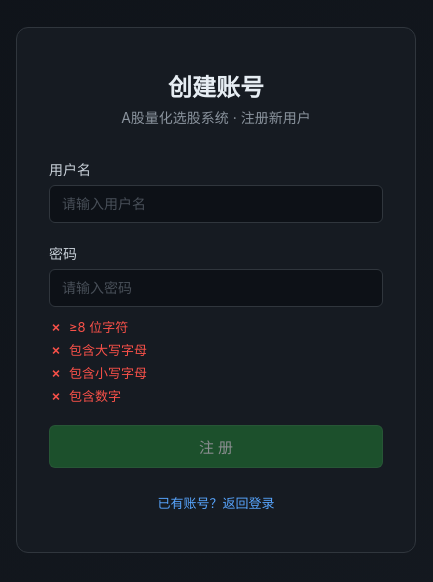
Test: RegisterView › 用户名已占用时显示 ✗ 和错误信息
Type "taken_user" into the field with id "reg-username" at {"x": 216, "y": 204}, box [49,185,383,223]
Wait 400 ms
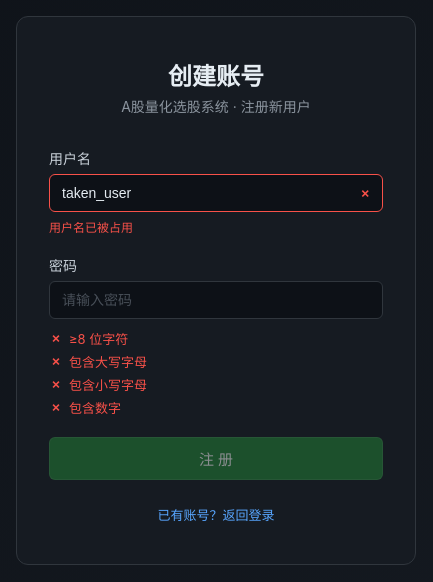
Expected: the text with class "invalid" reads "✗", [360,184,371,200]
Expected: the text with class "field-error" reads "用户名已被占用", [49,220,133,234]
